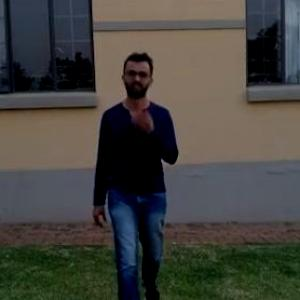follow: (107, 56, 180, 294)
